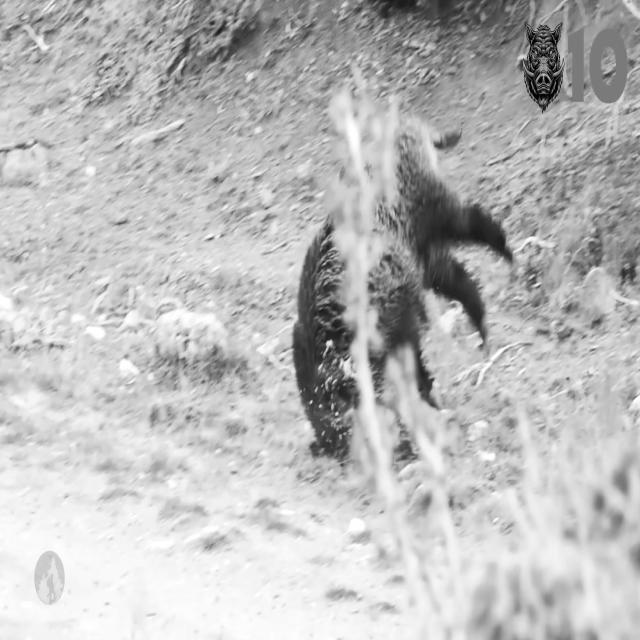boar: (368, 121, 511, 404), (293, 216, 358, 459)
